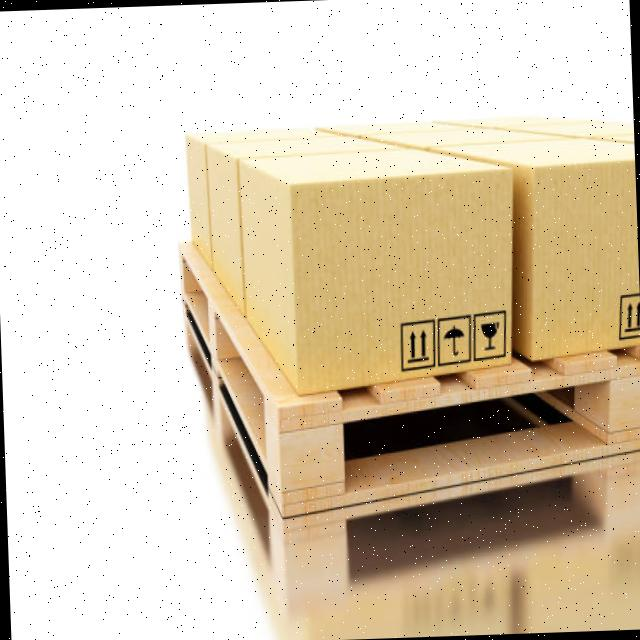Wooden-Pallets: (177, 238, 640, 531)
